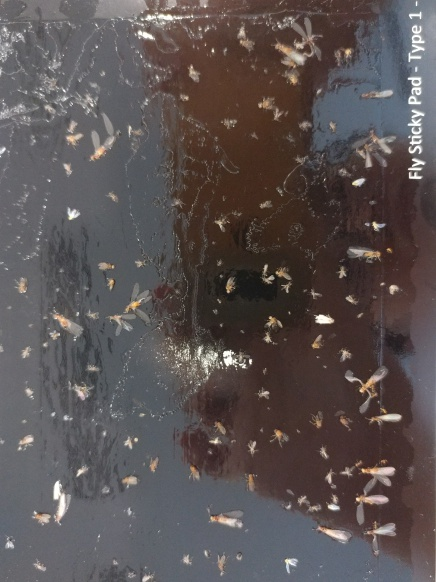flying termite: (342, 363, 385, 412), (364, 520, 403, 561), (352, 491, 399, 524), (290, 16, 325, 60), (48, 303, 84, 343), (361, 458, 400, 494), (203, 507, 252, 534), (127, 279, 154, 325), (313, 520, 354, 547), (52, 490, 77, 531), (345, 244, 385, 268), (367, 410, 406, 430), (356, 85, 397, 102), (87, 127, 105, 165)
